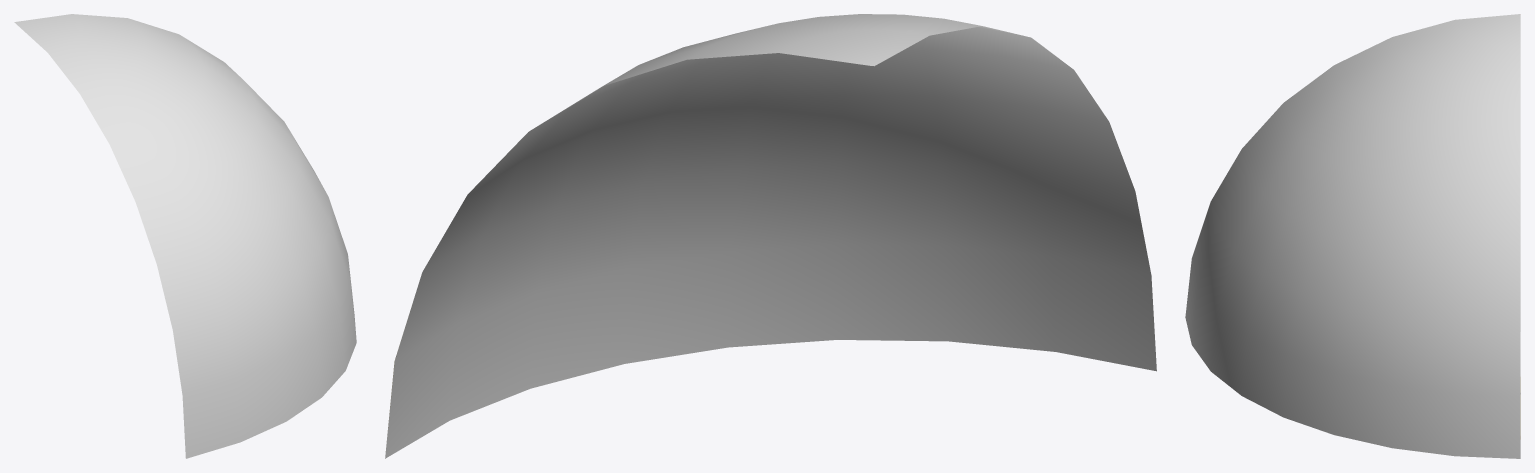
File: r4c1_face_light_grey.gltf
3 views of the same model, side by side, from view 1: azimuth 30°, elevation 25°; view 2: azimuth 150°, elevation 25°; view 3: azimuth 270°, elevation 25° (orthographic). The views are drawn at different scales.
Visible parts, largest first — view 1: r4c1_face_light_grey; view 2: r4c1_face_light_grey; view 3: r4c1_face_light_grey.
Boxes of the visible parts, <box> form: r4c1_face_light_grey: <box>14,14,356,458</box>; r4c1_face_light_grey: <box>385,14,1156,458</box>; r4c1_face_light_grey: <box>1185,14,1520,458</box>.
Bounding box in the file's own units: 2 × 2 × 2.
1 material, 1 textured.
